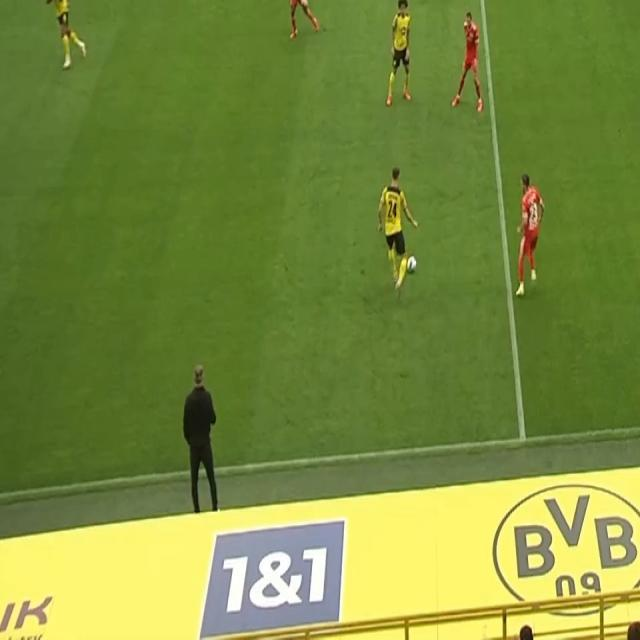ball: (406, 254, 418, 276)
